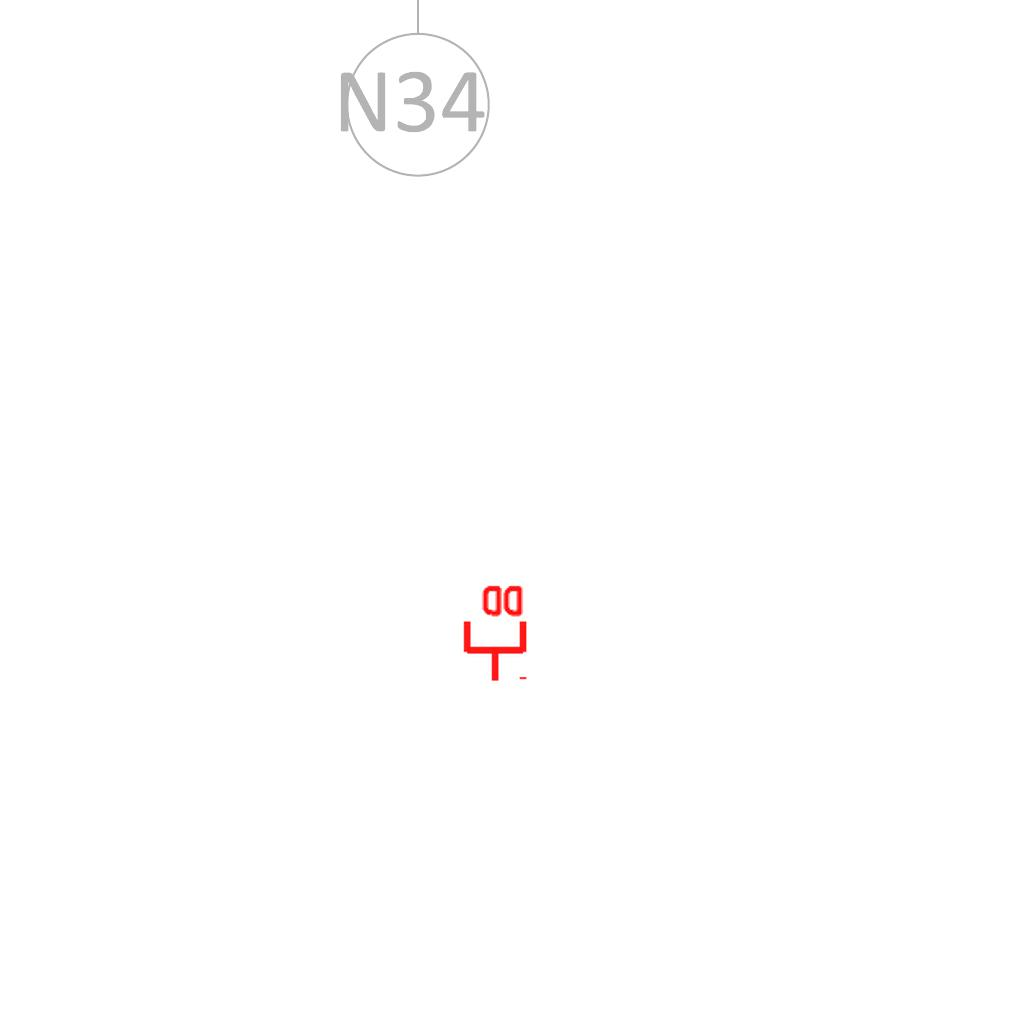Datenanschluss_zweifach: (459, 581, 528, 684)
